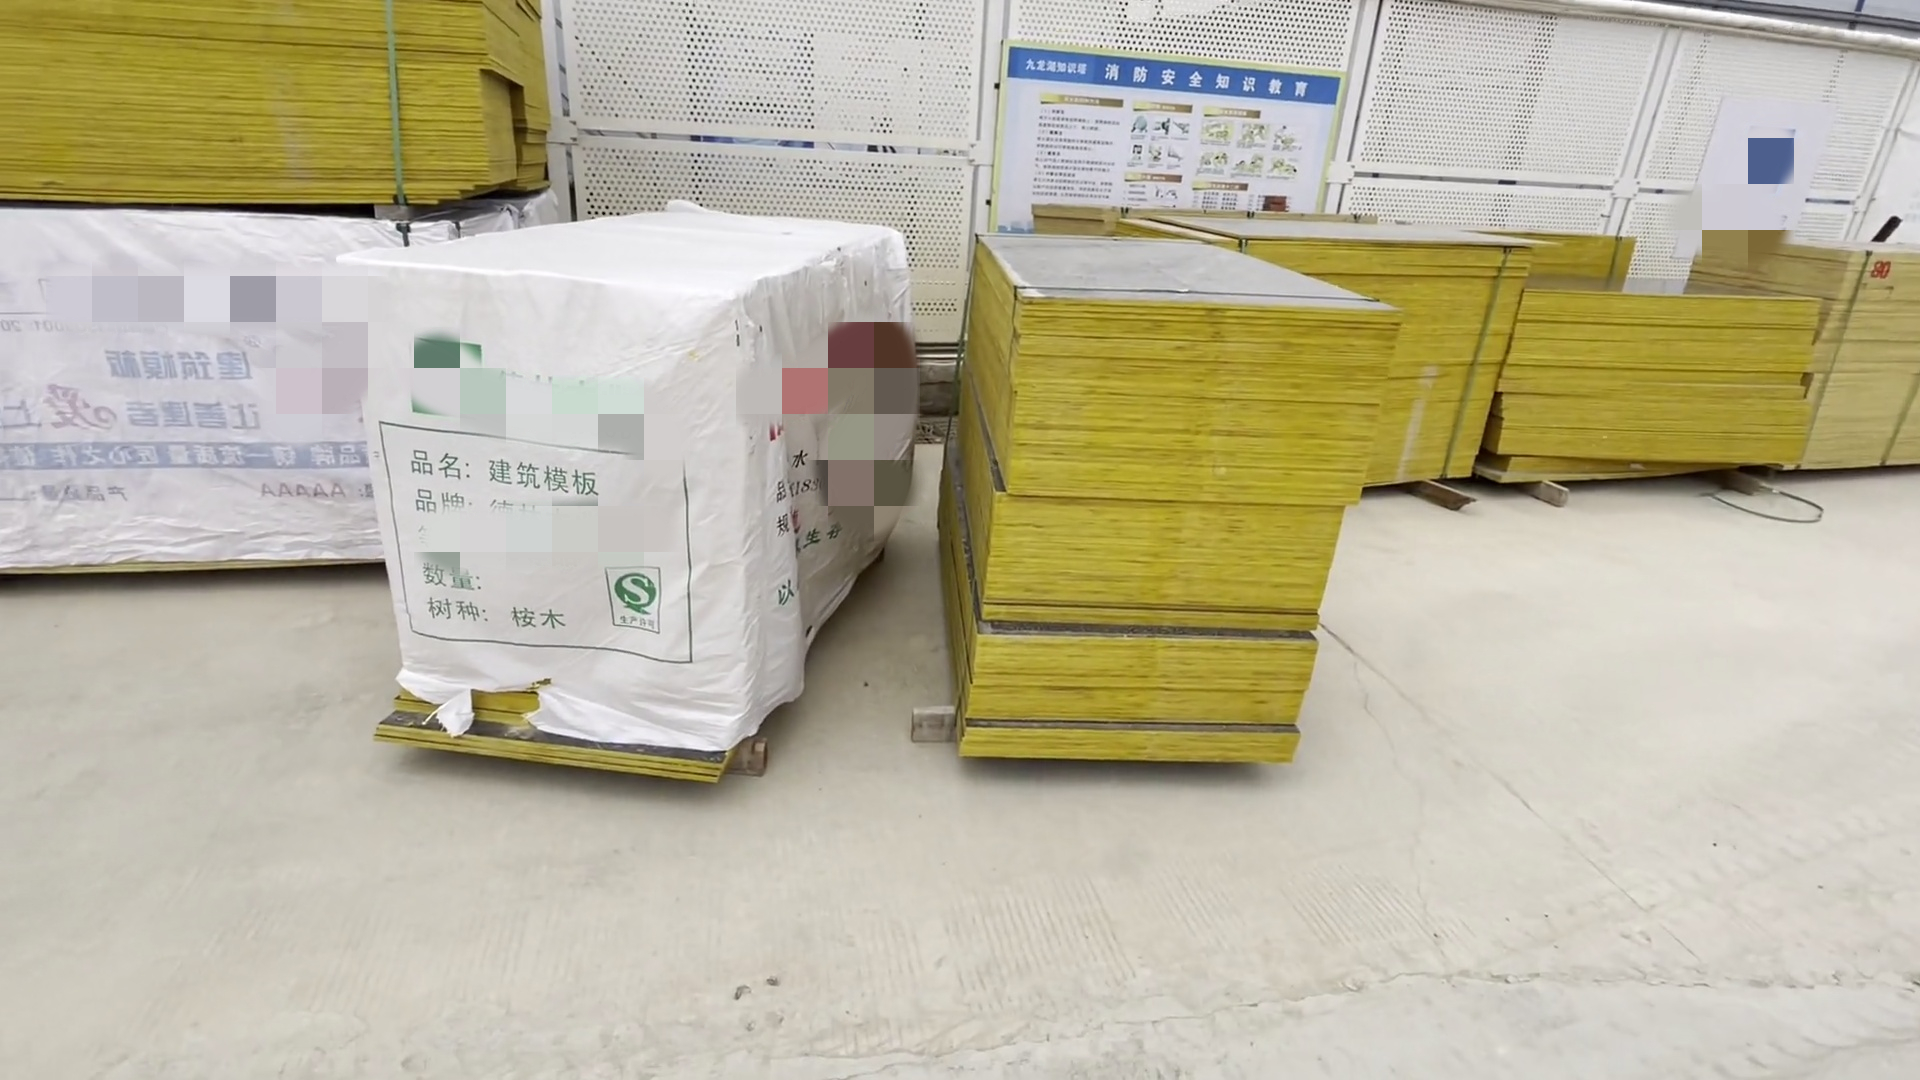board: (957, 231, 1396, 796), (1415, 240, 1920, 495), (11, 1, 518, 212)
